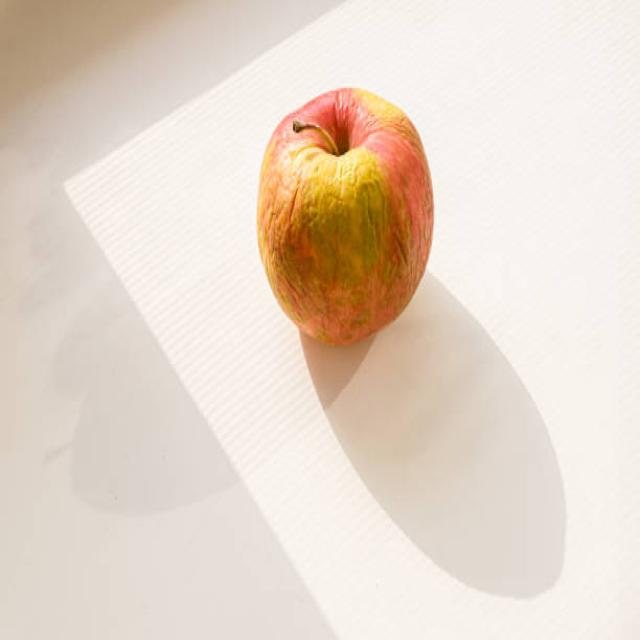overripe: (251, 82, 436, 348)
